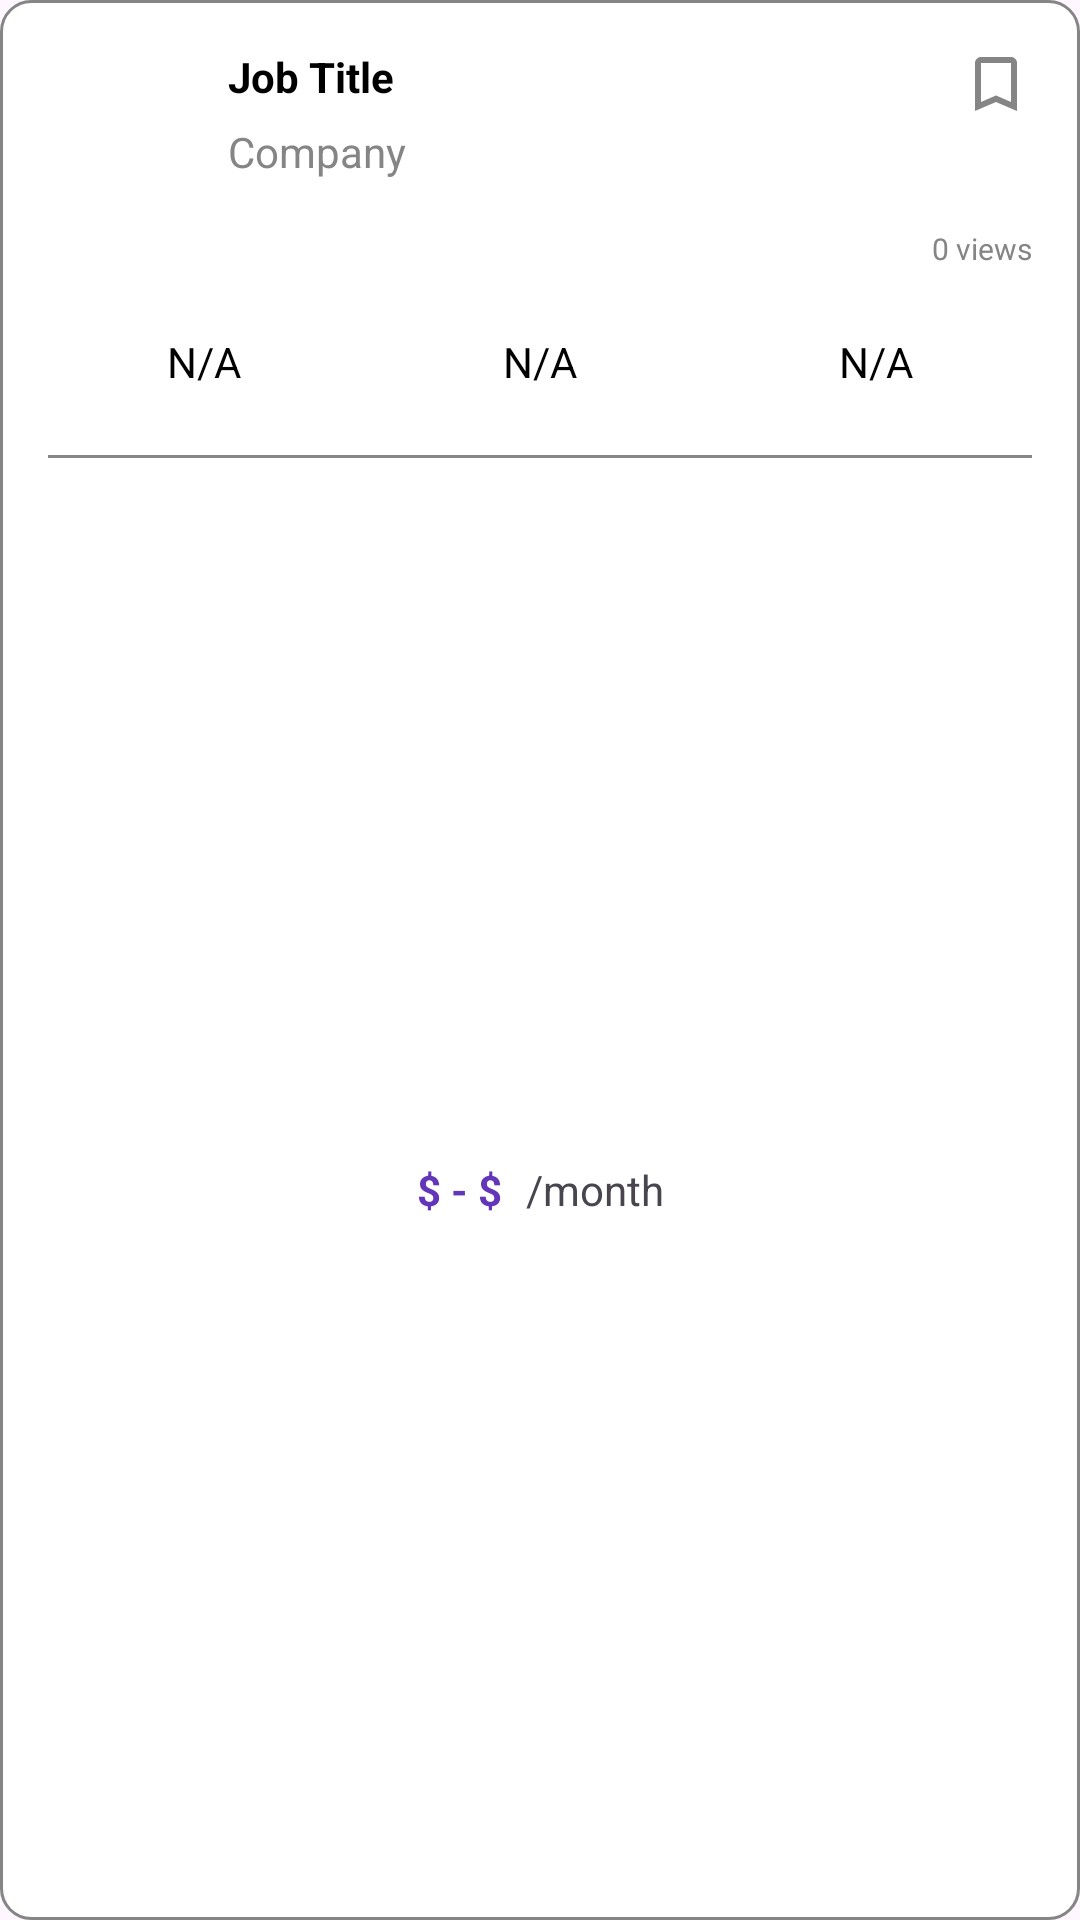

Screen size 1080x1920. Icon name, then its box in pixels as (x1=x1, y1=y1, x2=x2, y2=y2):
bookmark: (x1=975, y1=57, x2=1017, y2=111)
